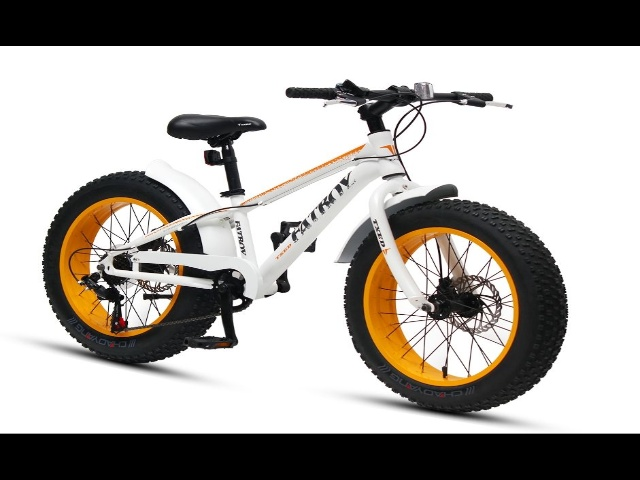bike: (35, 68, 582, 419)
